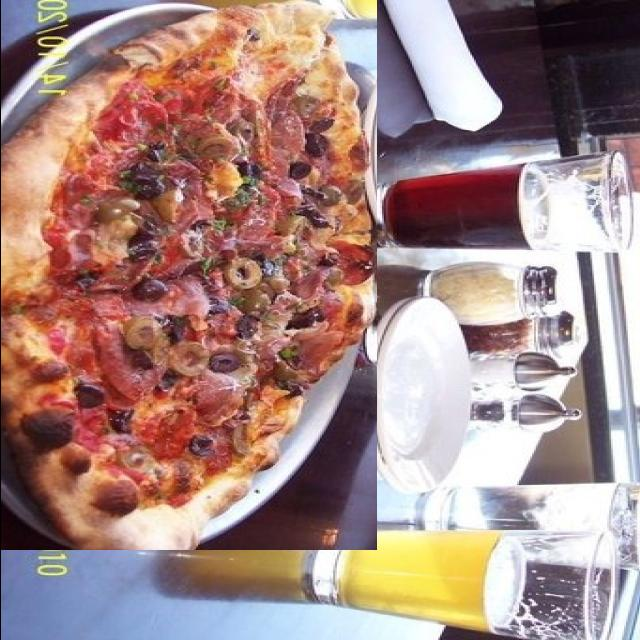olive: (125, 288, 159, 334), (167, 174, 210, 209), (122, 198, 158, 234), (225, 261, 260, 294), (95, 326, 136, 352), (237, 236, 272, 264), (197, 393, 236, 413), (116, 76, 150, 98), (132, 248, 166, 270), (278, 313, 308, 337), (209, 176, 240, 198), (72, 143, 100, 167), (234, 212, 259, 236), (186, 94, 214, 115), (318, 343, 341, 368), (307, 394, 330, 417), (110, 116, 132, 140), (289, 369, 308, 387)
pizza: (0, 0, 376, 550)
